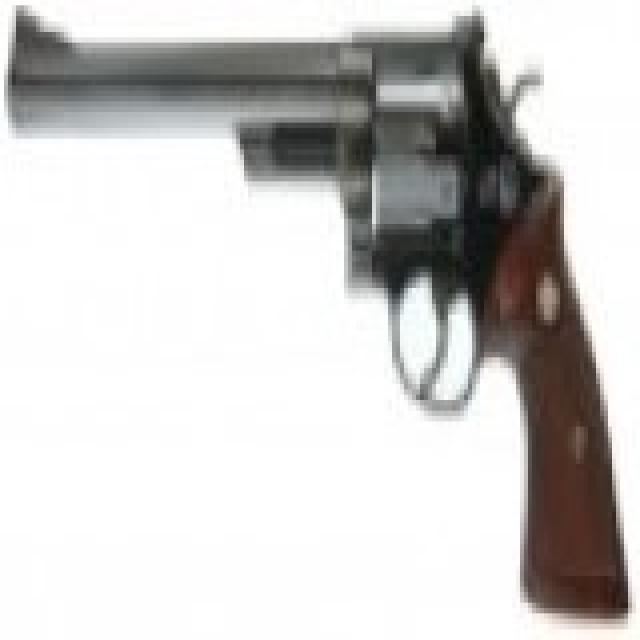gun: (8, 11, 628, 624)
